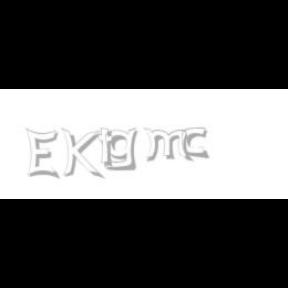E: (26, 128, 58, 180)
K: (61, 128, 101, 180)
c: (182, 128, 210, 160)
g: (104, 128, 142, 171)
m: (142, 128, 194, 162)
t: (98, 128, 120, 168)
